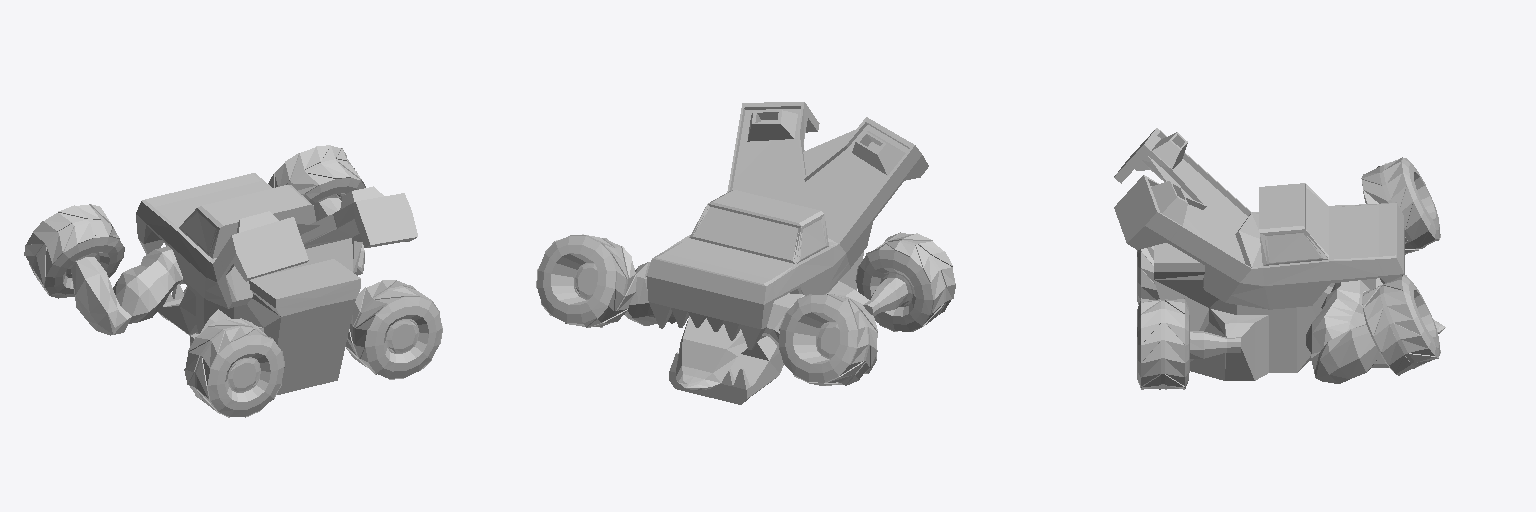
The model's file is boss.obj.
3 renders of one model, left to right at view 1: azimuth 30°, elevation 25°; view 2: azimuth 150°, elevation 25°; view 3: azimuth 270°, elevation 25°, orthographic.
Parts seen in each view (by area): view 1: Monstertruck_02:pCube14; view 2: Monstertruck_02:pCube14; view 3: Monstertruck_02:pCube14.
Boxes of the visible parts, box(x1,y1,x2,y2) form: Monstertruck_02:pCube14: box(24, 145, 442, 417); Monstertruck_02:pCube14: box(536, 102, 955, 404); Monstertruck_02:pCube14: box(1114, 128, 1445, 389).
Size of the model in its own units: 3.78 by 2.17 by 3.38.